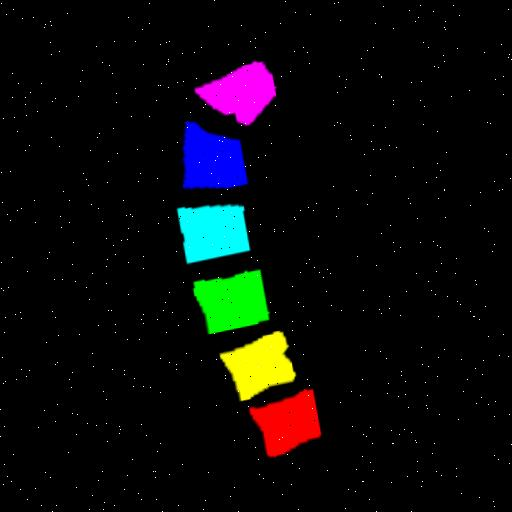L1: (241, 395, 313, 461)
L2: (213, 337, 287, 404)
L3: (188, 274, 263, 337)
L4: (173, 209, 245, 267)
L5: (179, 125, 243, 191)
S1: (192, 66, 273, 130)
